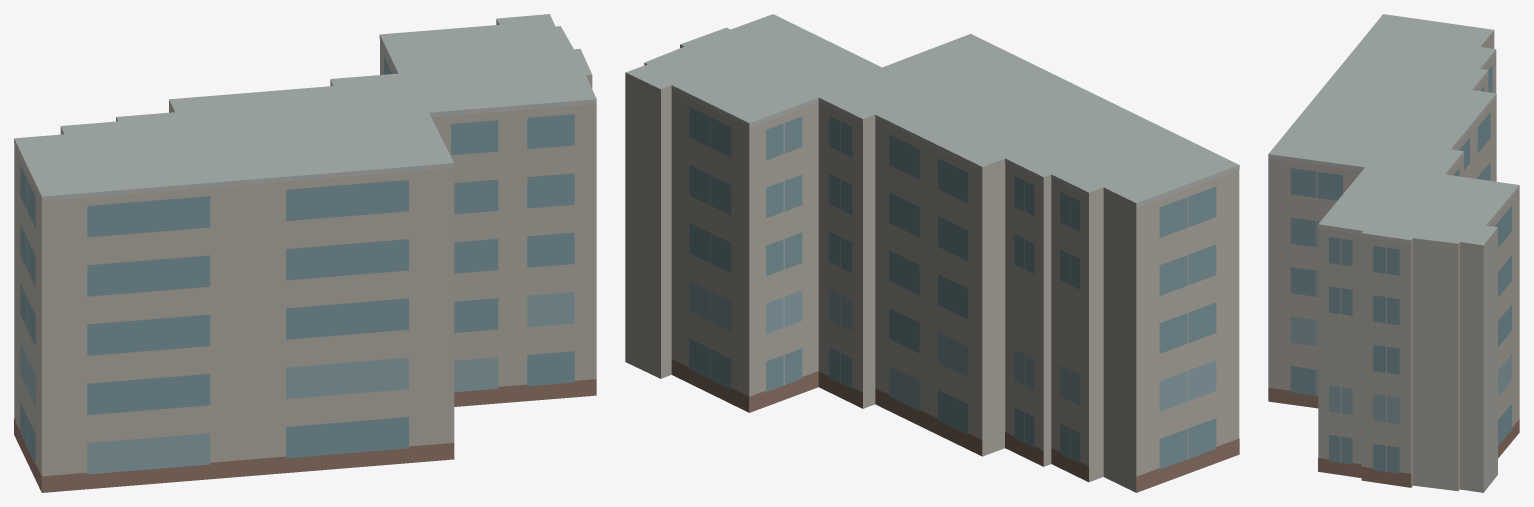
File: survey-upis-33001127.glb
3 renders of one model, left to right at view 1: azimuth 30°, elevation 25°; view 2: azimuth 150°, elevation 25°; view 3: azimuth 270°, elevation 25°, orthographic. The views are drawn at different scales.
Visible parts, largest first — view 1: survey-upis-33001127.tmp; view 2: survey-upis-33001127.tmp; view 3: survey-upis-33001127.tmp.
Boxes of the visible parts, x1=… form: survey-upis-33001127.tmp: x1=14, y1=14, x2=596, y2=492; survey-upis-33001127.tmp: x1=625, y1=14, x2=1239, y2=492; survey-upis-33001127.tmp: x1=1268, y1=14, x2=1519, y2=492.
Size of the model in its own units: 29.69 by 14.8 by 13.63.
